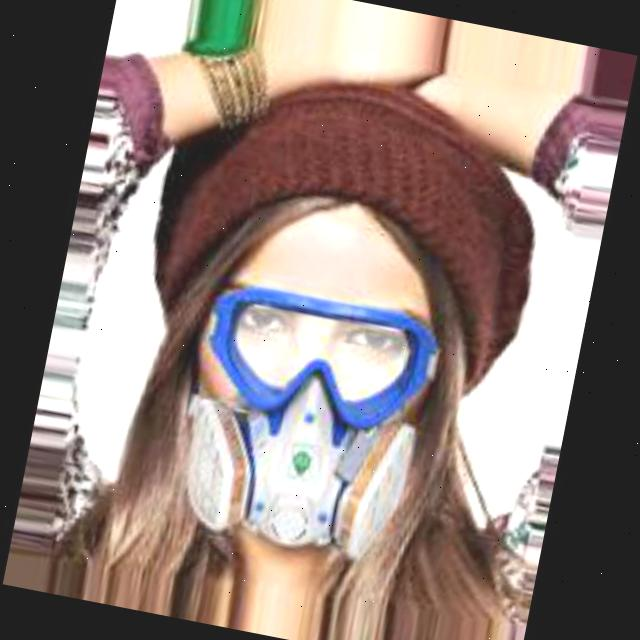suspicion: (133, 189, 488, 590)
